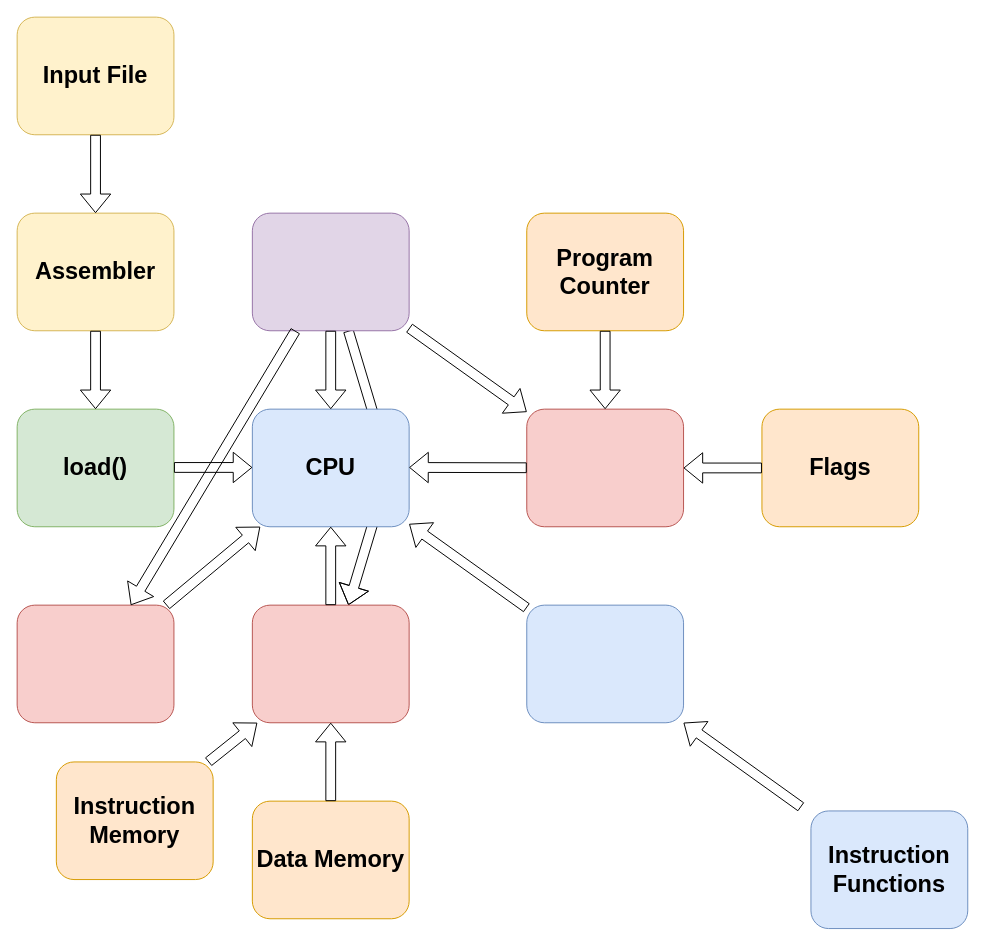
Some shapes in this 985 by 946 pixel diagram are drawn without their labels. The centre of each missing label's shape, as x and y in pixels:
Call Stack: point (95, 663)
Constants: point (330, 271)
Instructions: point (605, 663)
Memory: point (330, 663)
Register File: point (605, 467)
